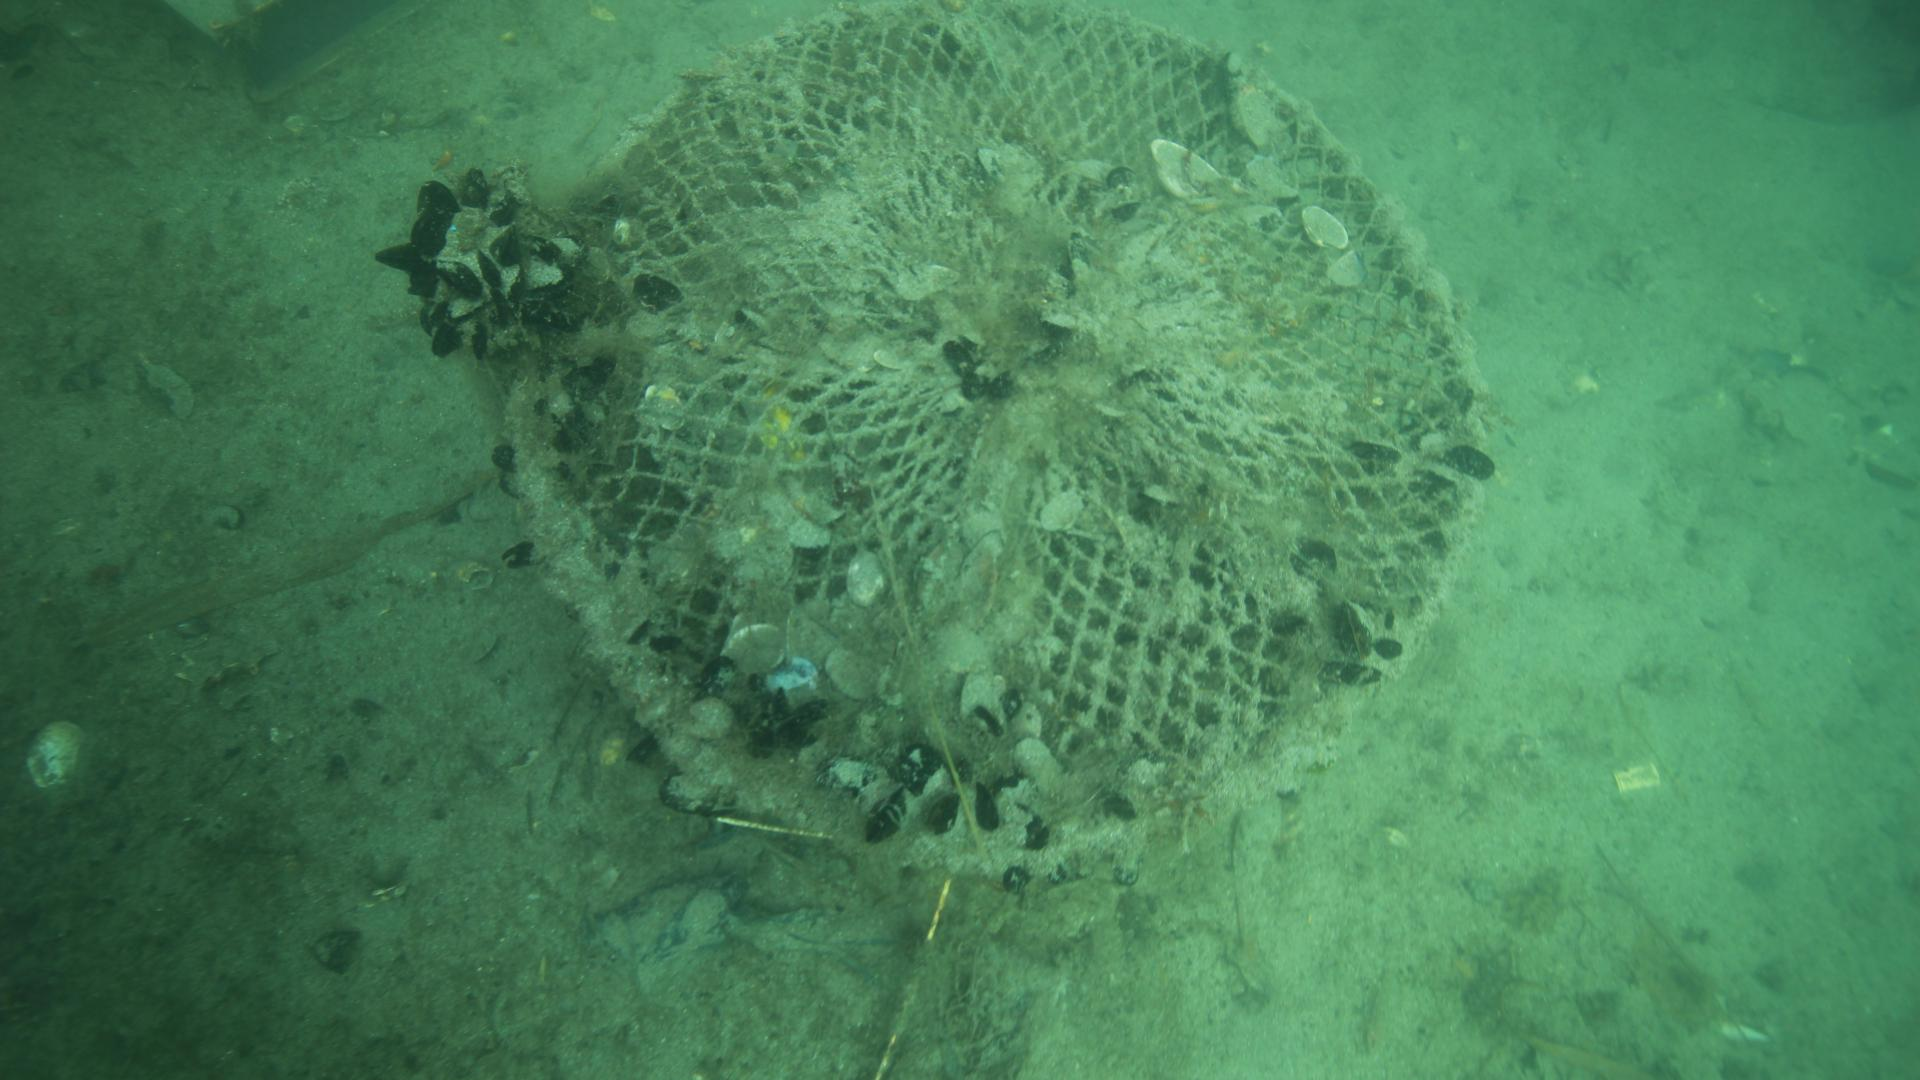circular fish trap: (512, 1, 1491, 874)
